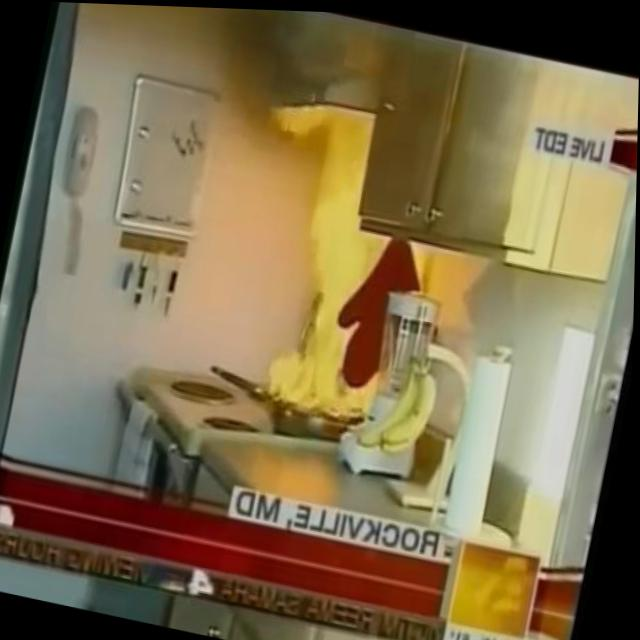fire: (263, 174, 417, 428)
